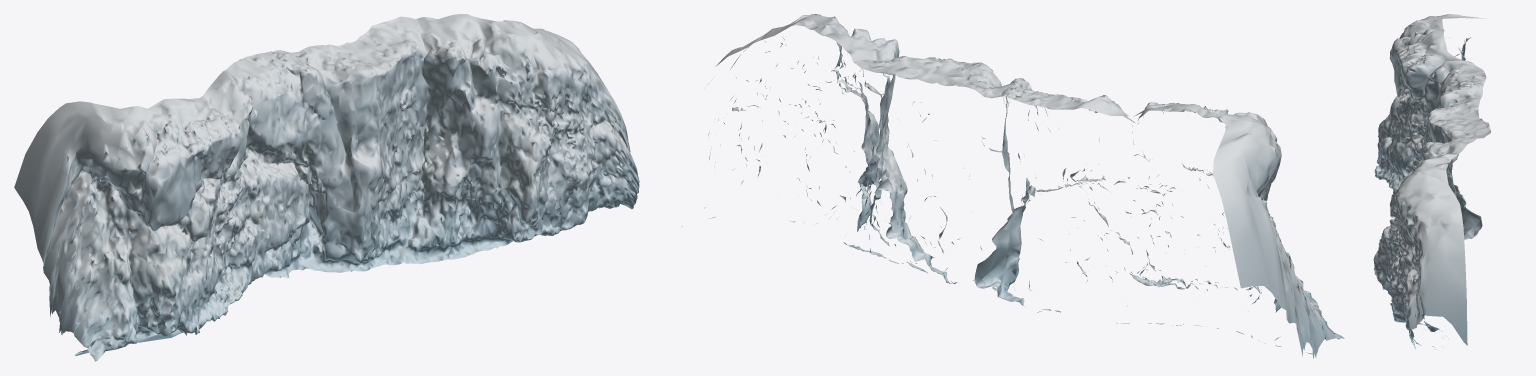
Rendered from sculpted-iceberg.glb.
The picture shows the model from 3 angles, left to right: view 1: azimuth 30°, elevation 25°; view 2: azimuth 150°, elevation 25°; view 3: azimuth 270°, elevation 25°; orthographic projection. The views are drawn at different scales.
Size of the model in its own units: 25.99 by 9.64 by 7.78.
